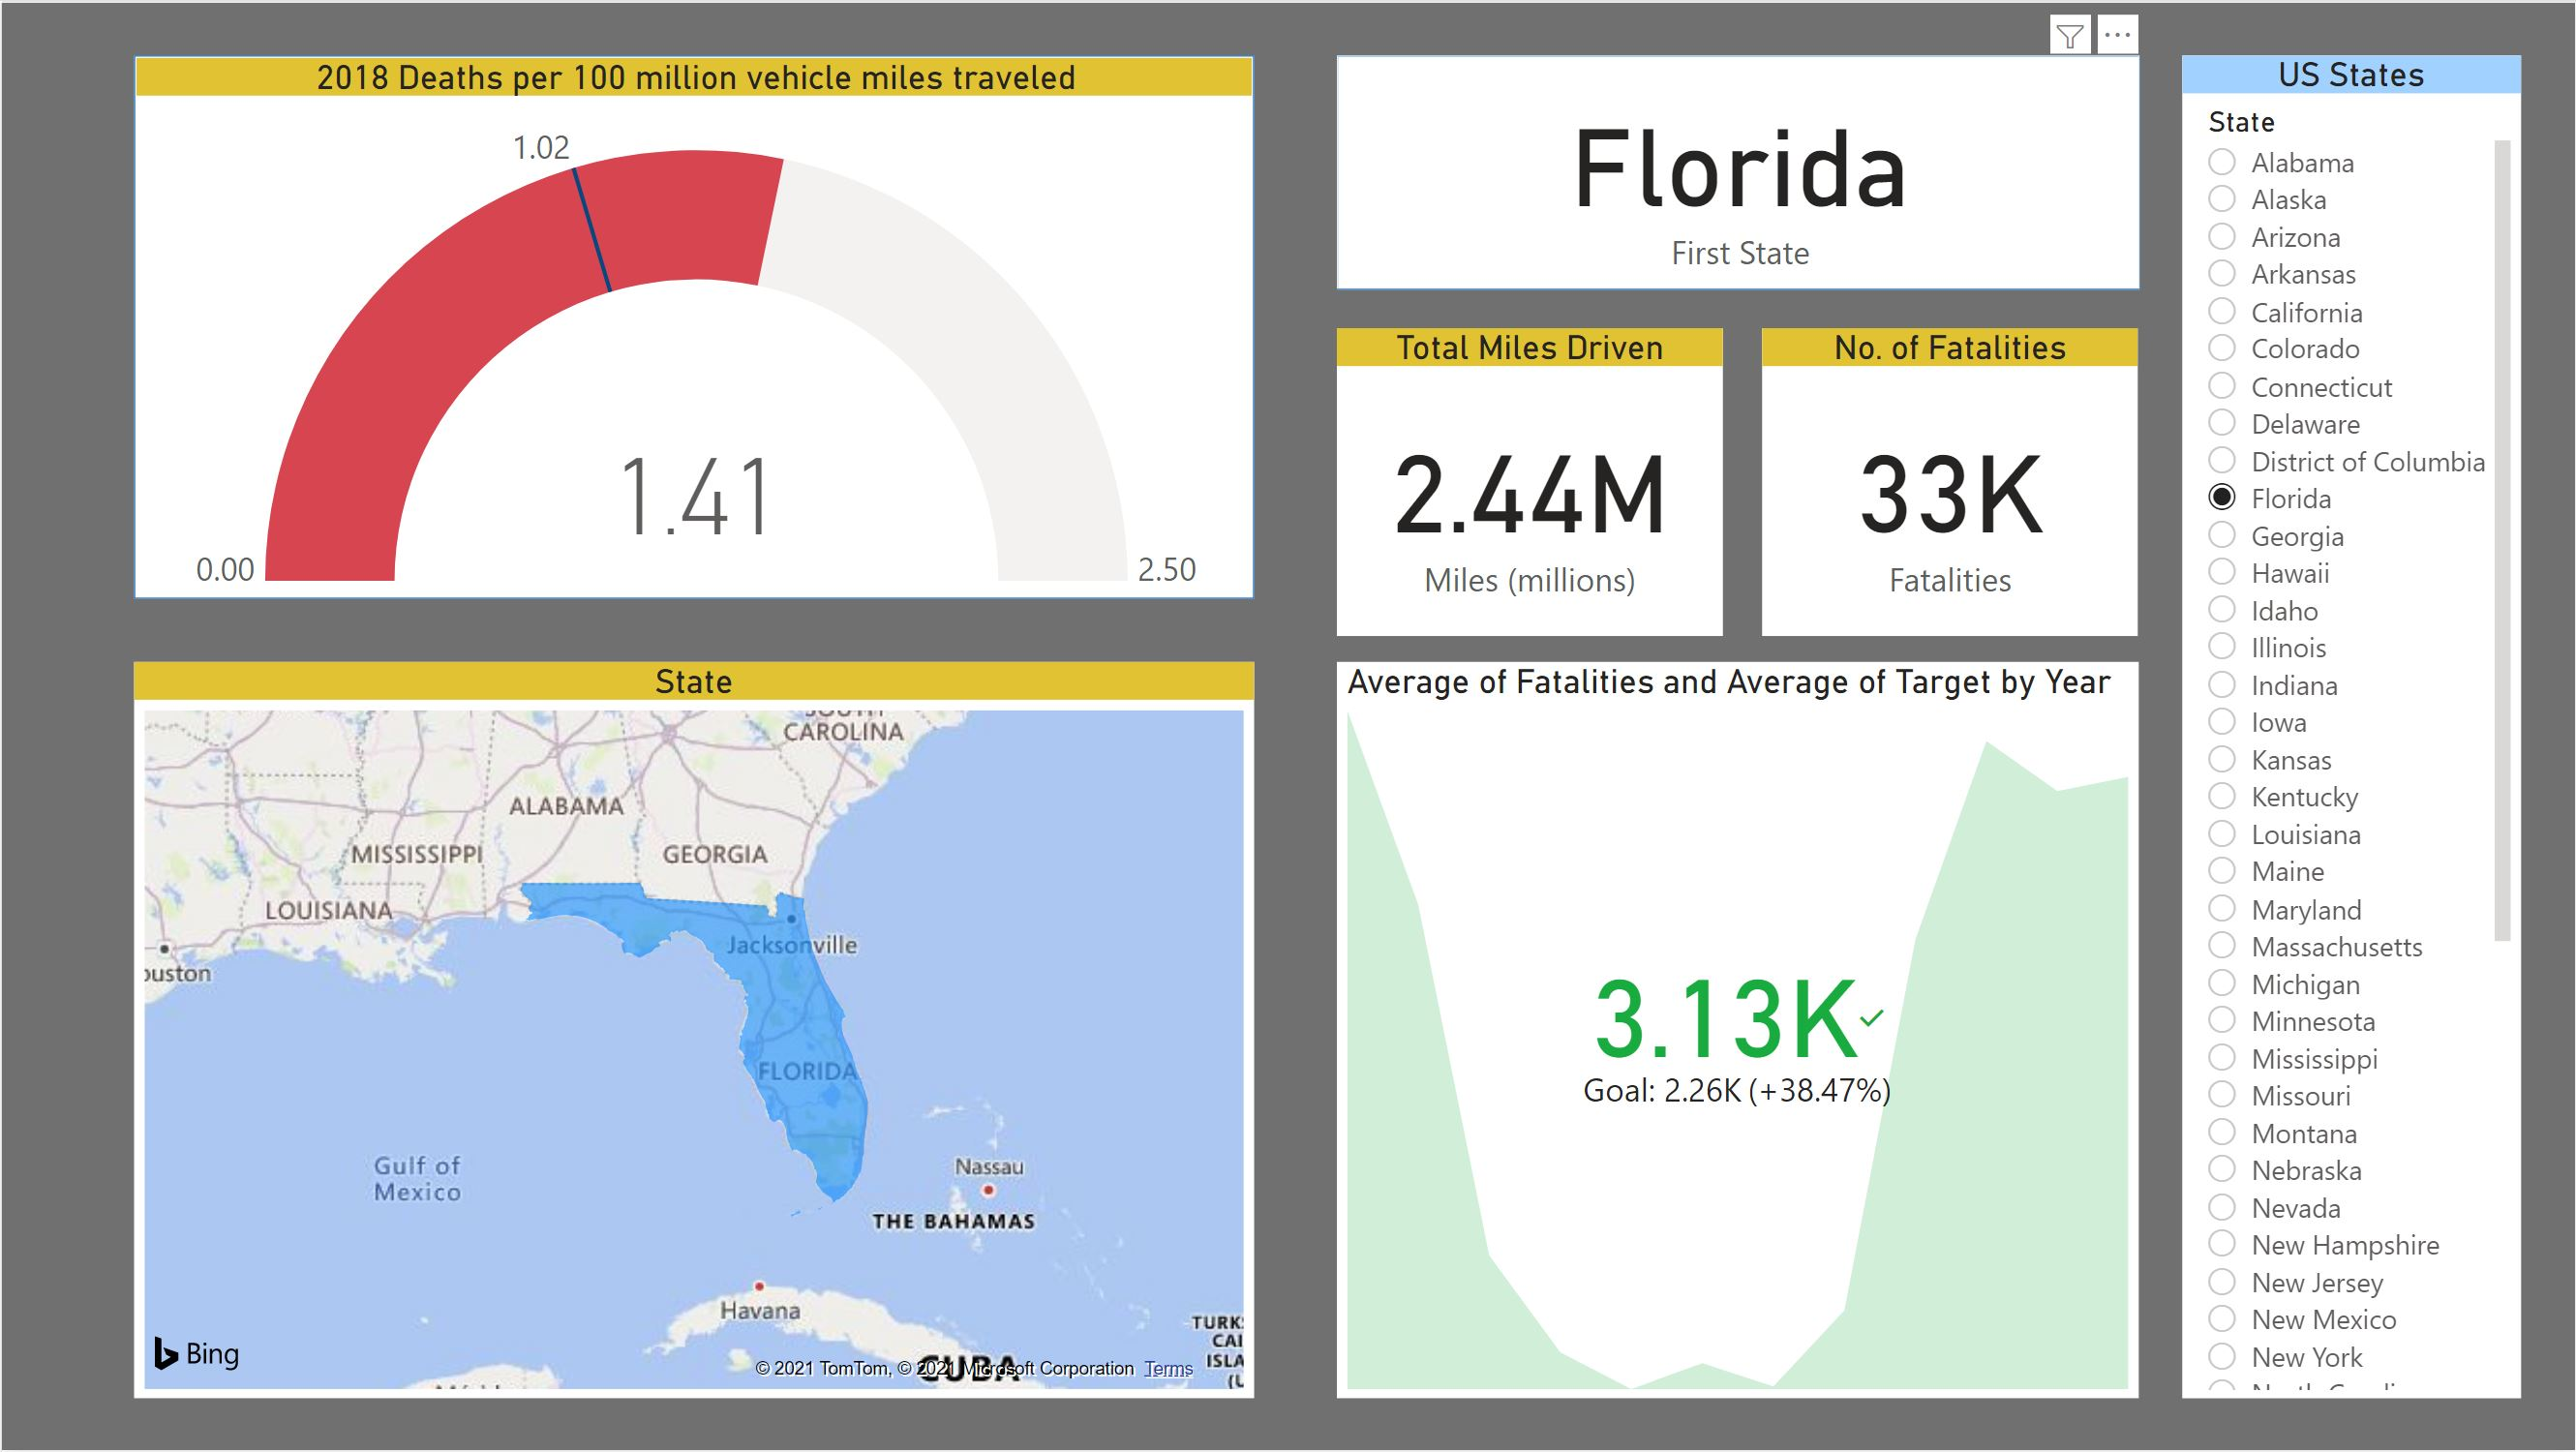

This screenshot's page, from the dashboard's own definition file:
{"tool":"powerbi","page":{"name":"Dashboard","canvas":[1280,720],"ordinal":0},"visuals":[{"type":"slicer","title":"US States","fields":{"Values":["PA - Driving Safety.State"]},"box":[1084.5,26.1,168.5,668.2],"z":0},{"type":"card","fields":{"Values":["Min(PA - Driving Safety.State)"]},"box":[664,26.1,399.4,116.3],"z":1000},{"type":"gauge","fields":{"Y":["Sum(PA - Driving Safety.2018 Deaths per 100 million vehicle miles traveled)"]},"box":[65.7,26.1,557,270.5],"z":2000},{"type":"filledMap","fields":{"Category":["PA - Driving Safety.State"]},"box":[65.7,327.8,557,366.6],"z":3000},{"type":"kpi","fields":{"Indicator":["Avg(PA - Driving Safety.Fatalities)"],"TrendLine":["PA - Driving Safety.Year"],"Goal":["Avg(PA - Driving Safety.Target)"]},"box":[664,327.8,398.6,366.6],"z":4000},{"type":"card","title":"Total Miles Driven","fields":{"Values":["Sum(PA - Driving Safety.Miles (millions))"]},"box":[664,161.8,192.1,153.4],"z":5000},{"type":"card","title":"No. of Fatalities","fields":{"Values":["Sum(PA - Driving Safety.Fatalities)"]},"box":[875.5,161.8,187.1,153.4],"z":6000}]}

Visuals, with their boxes in screenshot pixels (x1, y1, x2, y2):
"US States" slicer: locate(2172, 58, 2507, 1384)
card - Min(PA - Driving Safety.State): locate(1338, 58, 2131, 289)
gauge - Sum(PA - Driving Safety.2018 Deaths per 100 million vehicle miles traveled): locate(150, 58, 1256, 595)
filledMap - PA - Driving Safety.State: locate(150, 657, 1256, 1385)
kpi - Avg(PA - Driving Safety.Fatalities) x PA - Driving Safety.Year: locate(1338, 657, 2129, 1385)
"Total Miles Driven" card: locate(1338, 328, 1719, 632)
"No. of Fatalities" card: locate(1758, 328, 2129, 632)
